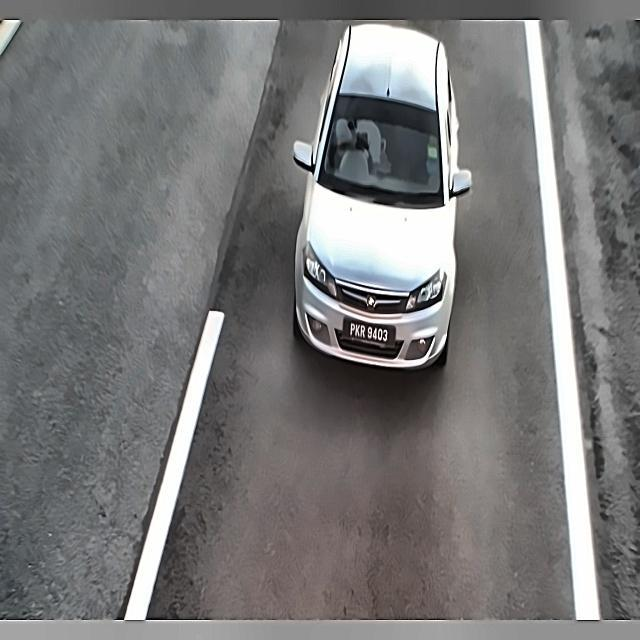car: (344, 306, 395, 358)
